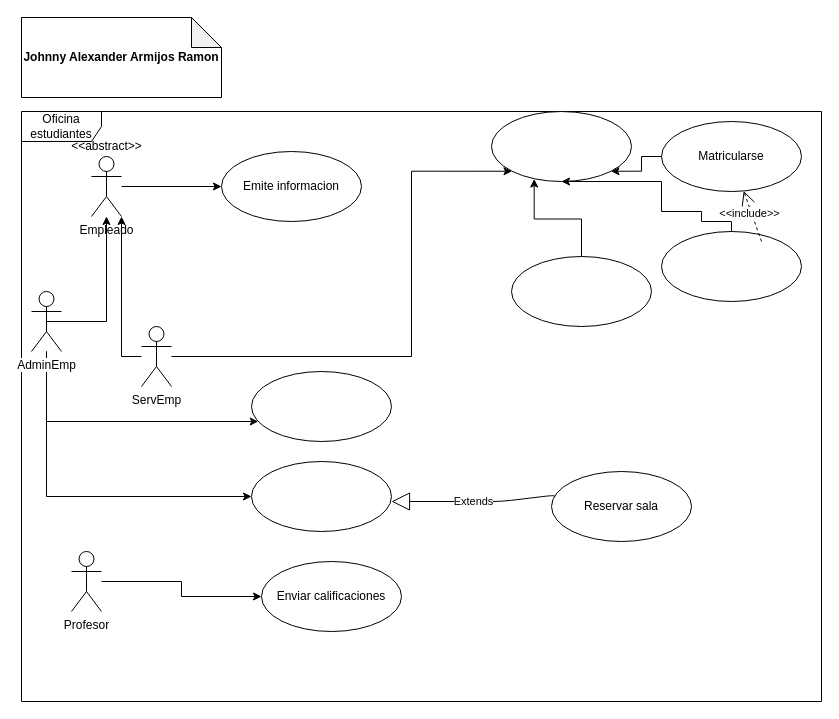
This 839x719 diagram has some shape labels left out. The centre of each missing label's shape, as x and y in pixels:
"<<abstract>> Administra datos estudiante" goes at point 561,146.
"Crear curso" goes at point 321,496.
"Emitir certificado" goes at point 321,406.
"Registrarse" goes at point 581,291.
"Retirarse" goes at point 731,266.
